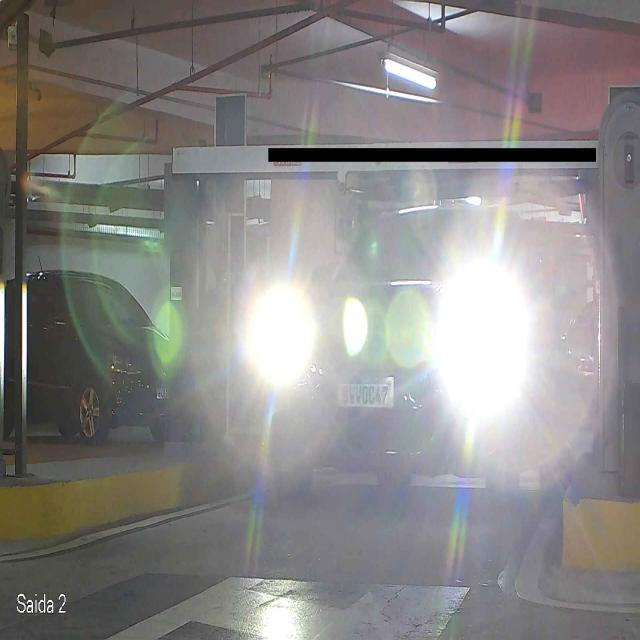mercosul_plate: (334, 374, 396, 409)
